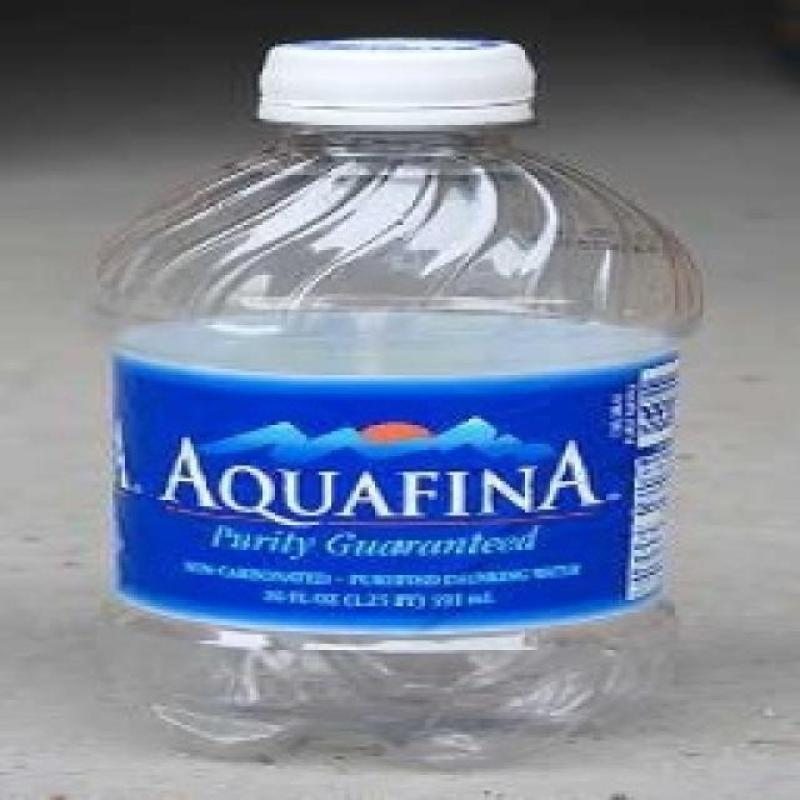botella: (93, 35, 709, 765)
